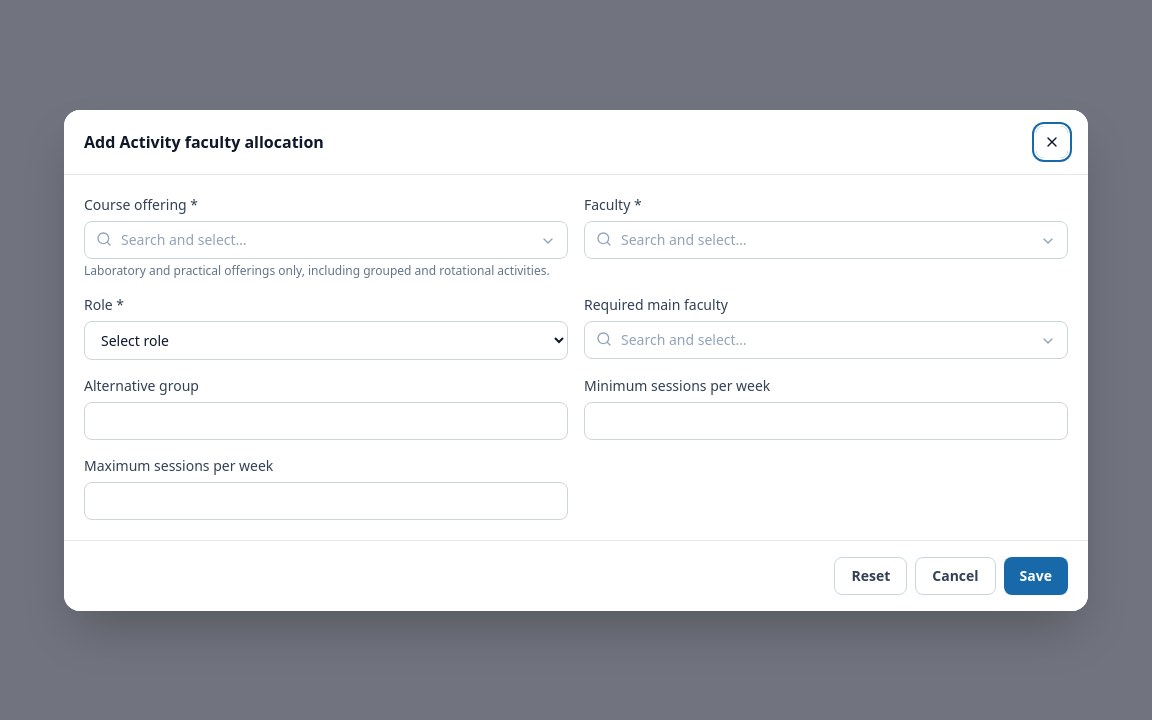
Scenario: master record form › offers laboratory and practical activities but not theory in Activity Faculty Allocations
Step 1. Click the dropdown labelled "Course offering *" → (326, 240), box [84,220,568,258]
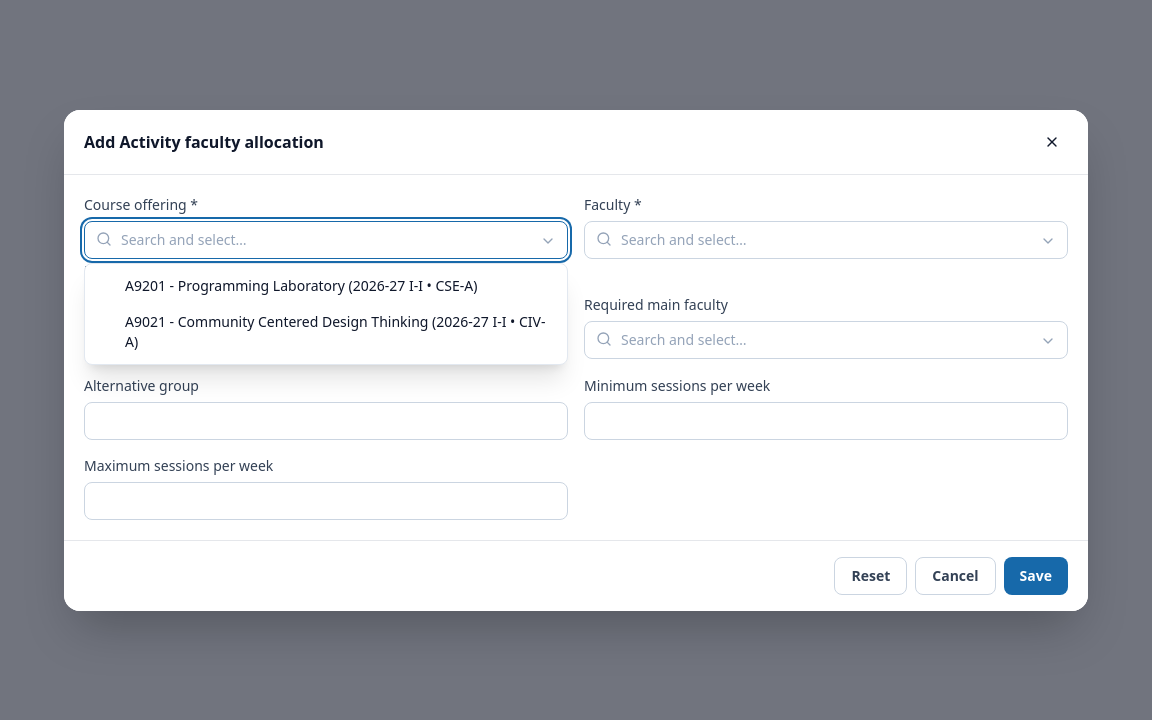
Check: the option "A9201 - Programming Laboratory (2026-27 I-I • CSE-A)" is shown, box [89,268,563,304]
Check: the 2nd option is shown, box [89,304,563,360]
